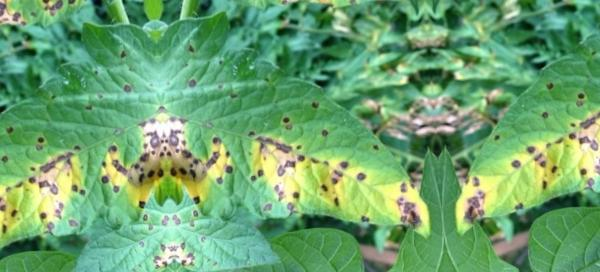Tomato Septoria leaf spot: (158, 32, 427, 250), (155, 0, 415, 23)
